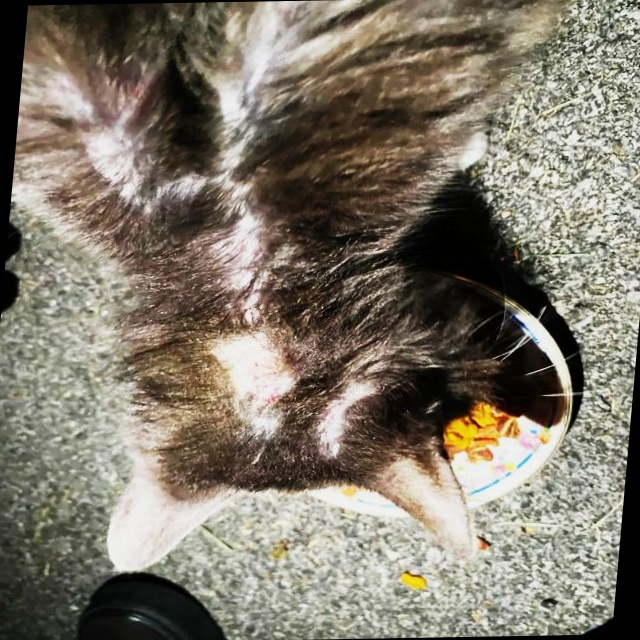hairloss: (195, 98, 278, 303), (213, 327, 299, 434), (315, 382, 368, 457)
